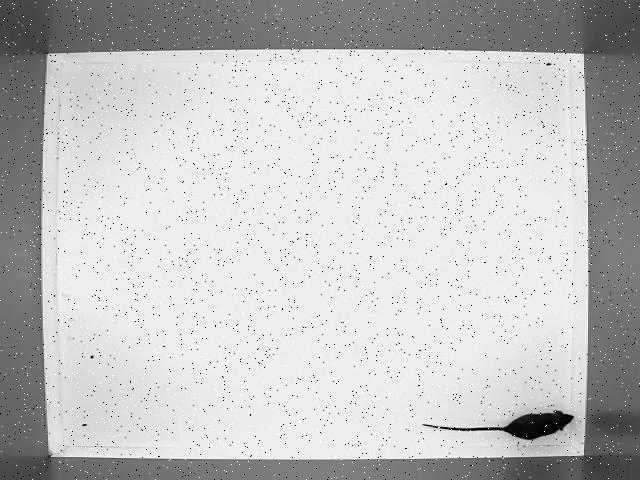Tikus: (414, 408, 576, 446)
